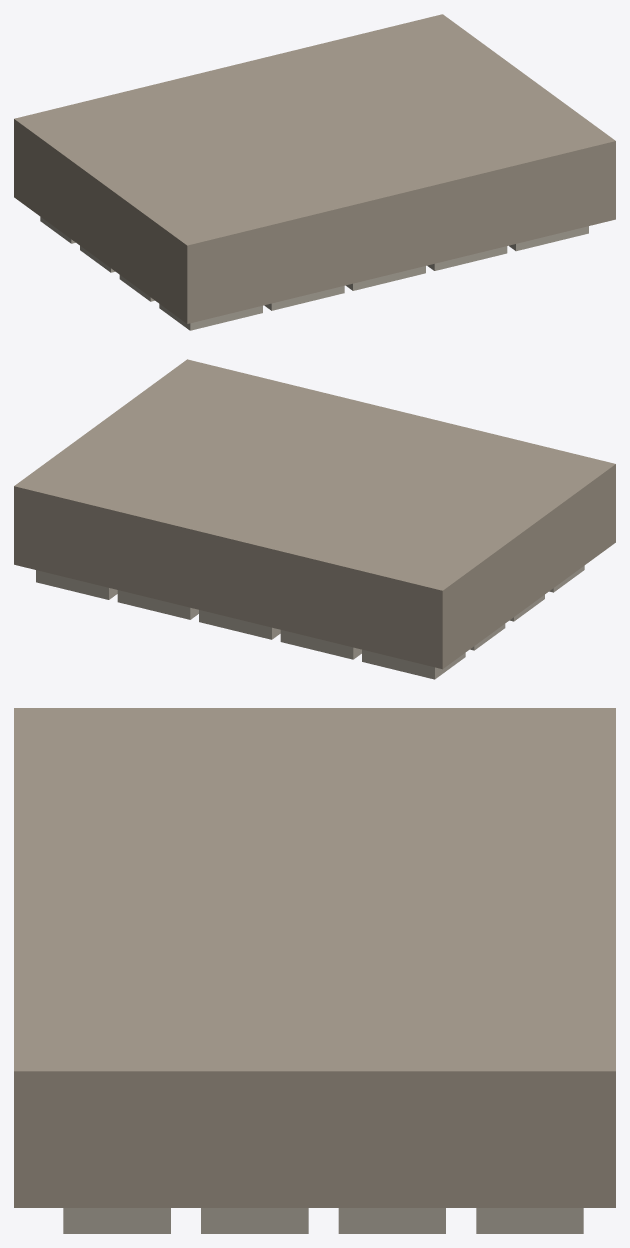
The model's file is wall-section.glb.
The picture shows the model from 3 angles, top to bottom: view 1: azimuth 30°, elevation 25°; view 2: azimuth 150°, elevation 25°; view 3: azimuth 270°, elevation 25°; orthographic projection. The views are drawn at different scales.
Visible parts, largest first — view 1: wall_core, world; view 2: wall_core, world; view 3: wall_core, world.
Part boxes in pixels (x1,y1,x2,y2): wall_core: (14, 14, 615, 323); world: (40, 217, 588, 330); wall_core: (14, 359, 615, 669); world: (36, 565, 584, 679); wall_core: (14, 708, 615, 1207); world: (63, 1208, 583, 1233).
Size of the model in its own units: 2 by 0.445 by 1.4.
